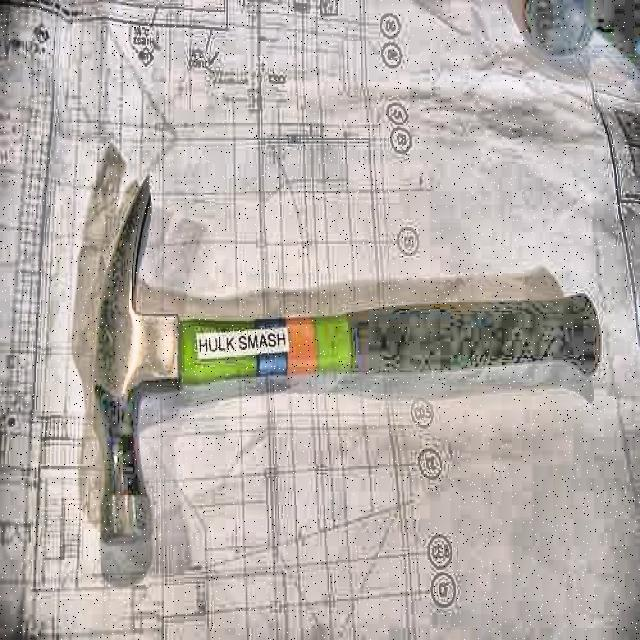hammer: (94, 179, 603, 547)
